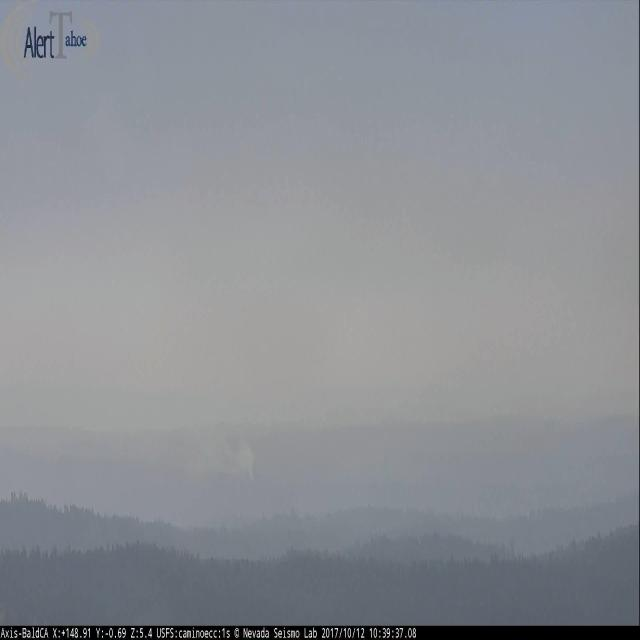smoke: (219, 438, 254, 482)
